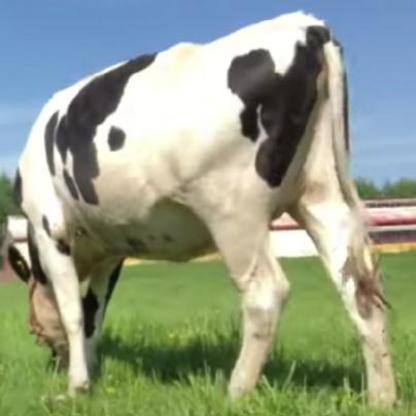cow: (9, 10, 396, 406)
